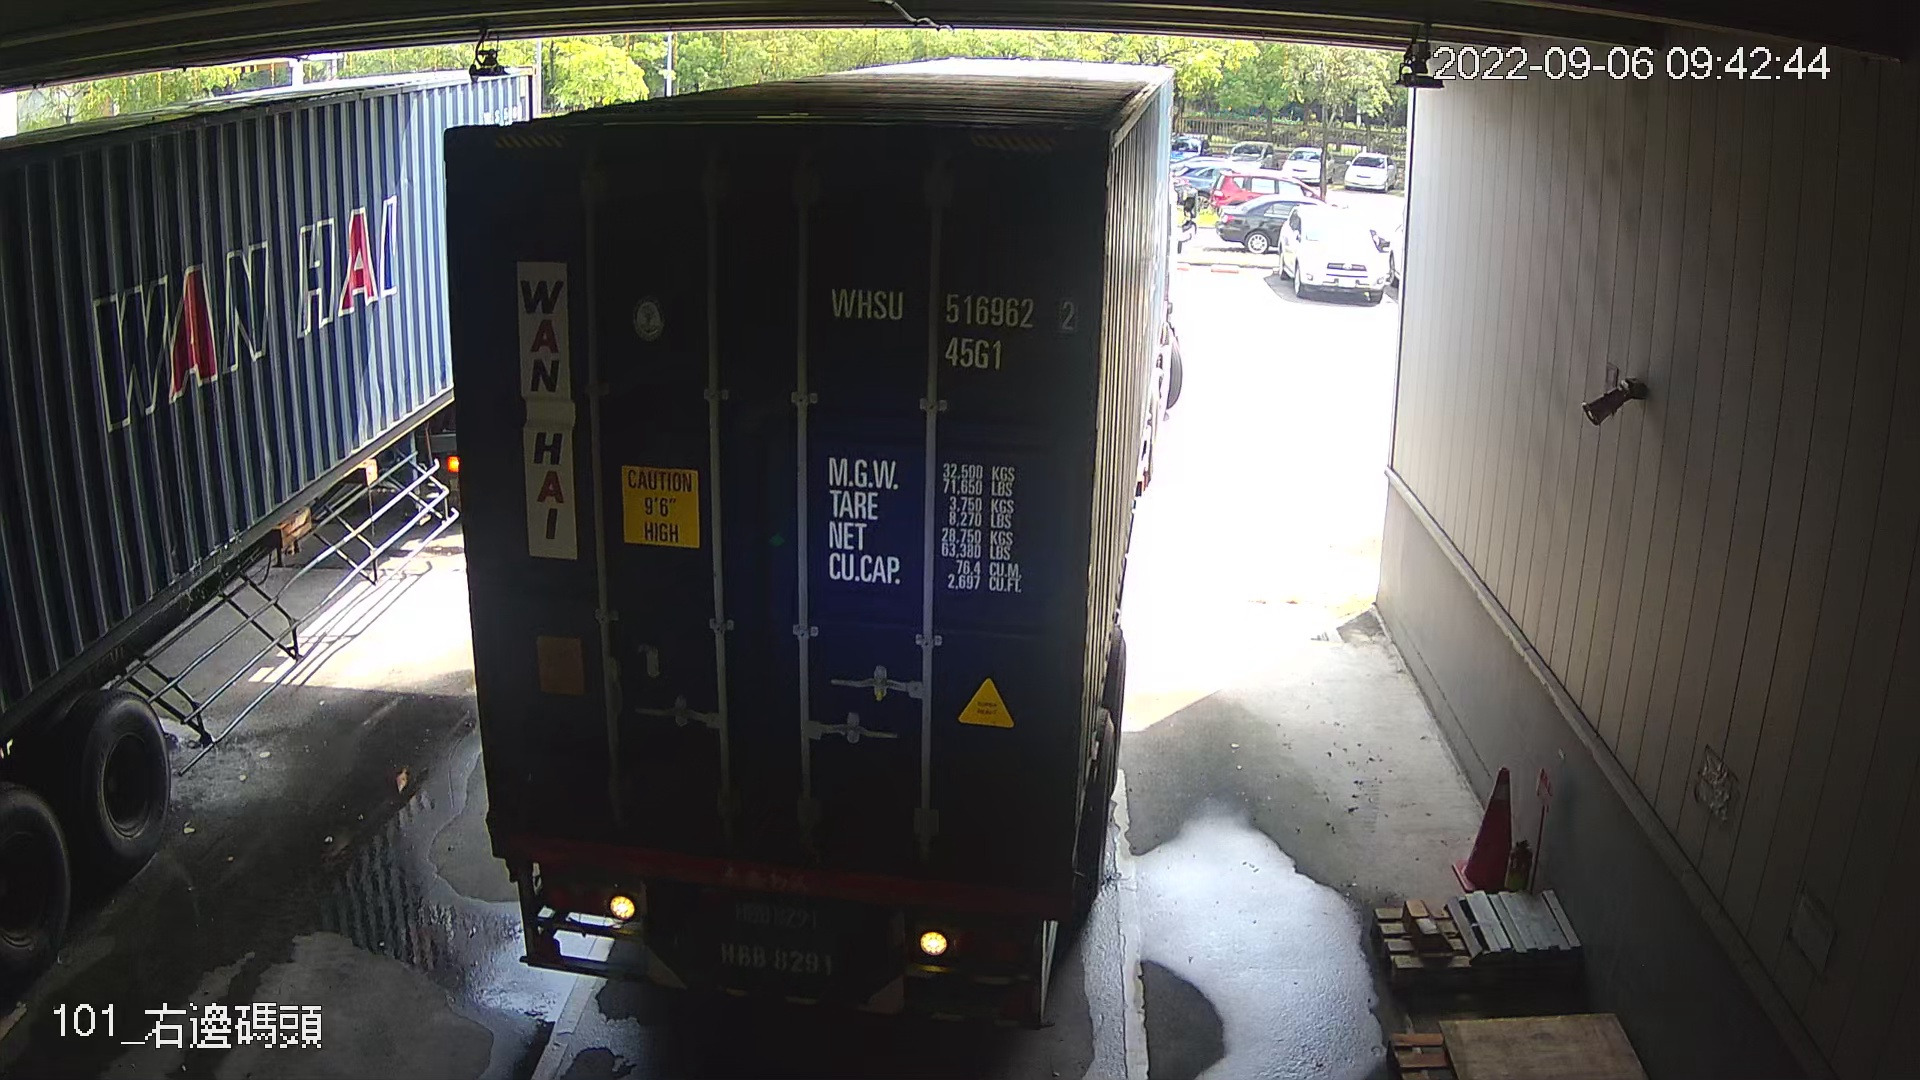container: (816, 269, 1085, 382)
